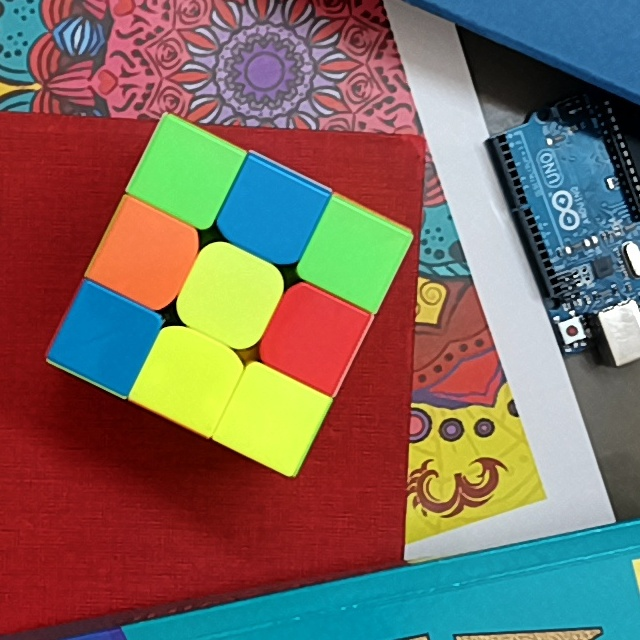tile: (197, 263, 264, 328), (237, 182, 305, 246), (114, 222, 181, 286), (241, 385, 305, 449), (76, 306, 138, 372), (154, 143, 219, 205), (155, 346, 220, 407), (321, 223, 384, 285), (280, 308, 345, 367)
